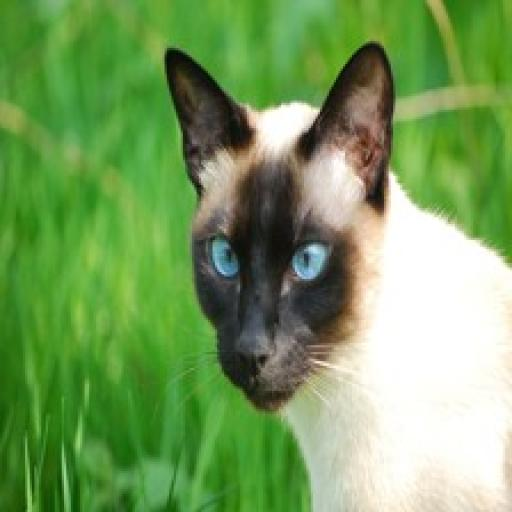cat: (148, 29, 512, 512)
